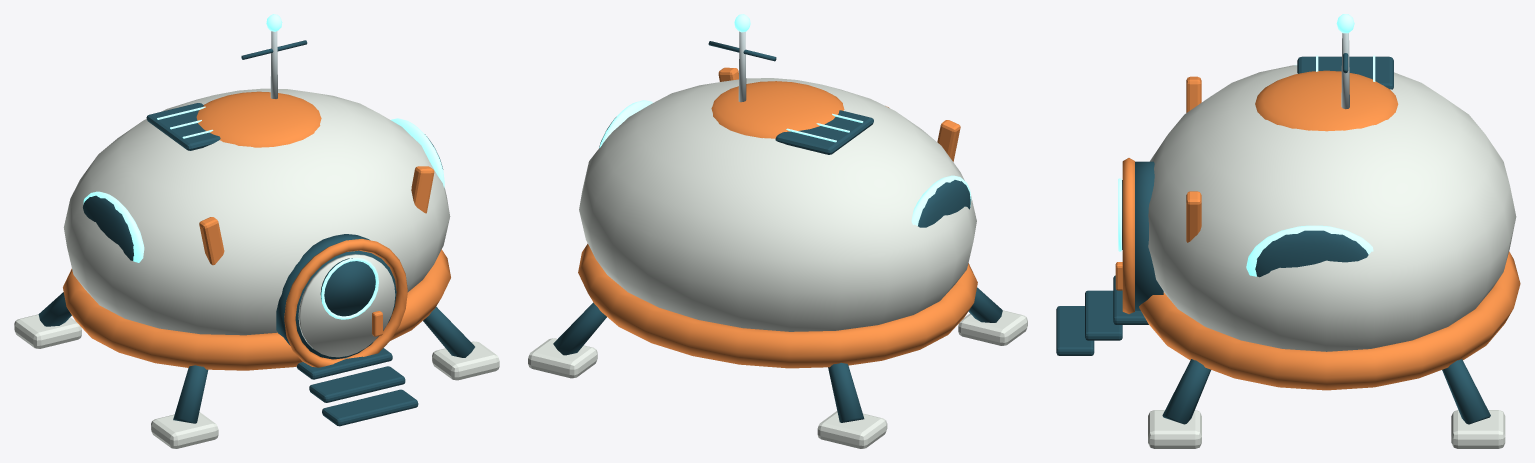
The model's file is pod.glb.
The picture shows the model from 3 angles, left to right: view 1: azimuth 30°, elevation 25°; view 2: azimuth 150°, elevation 25°; view 3: azimuth 270°, elevation 25°; orthographic projection. The views are drawn at different scales.
Parts seen in each view (by area): view 1: pod; view 2: pod; view 3: pod.
Boxes of the visible parts, x1,y1,x2,y2 form: pod: (14, 14, 499, 448); pod: (528, 14, 1027, 448); pod: (1056, 14, 1520, 448).
Bounding box in the file's own units: 4.7 × 4.22 × 4.89.
